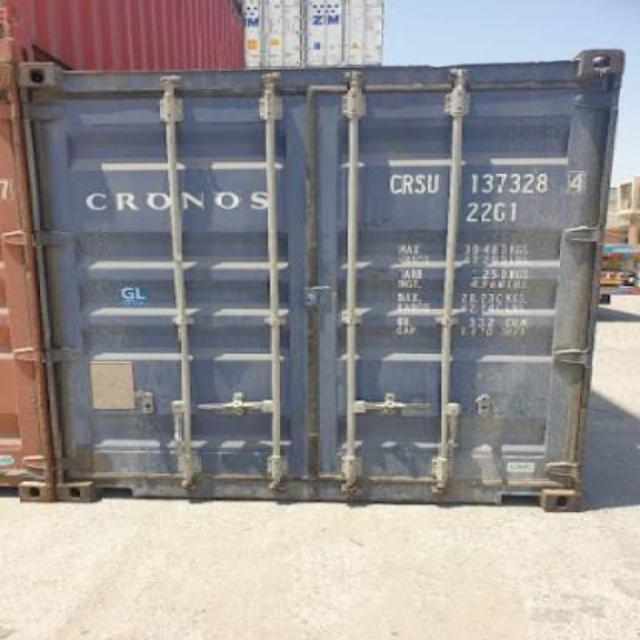1: (472, 168, 480, 200)
2: (522, 173, 538, 197)
3: (480, 172, 498, 198), (508, 172, 524, 198)
4: (568, 171, 588, 197)
7: (494, 170, 510, 198)
8: (536, 170, 552, 200)
C: (388, 173, 402, 197)
R: (402, 172, 416, 198)
S: (414, 173, 426, 197)
U: (428, 174, 442, 198)
